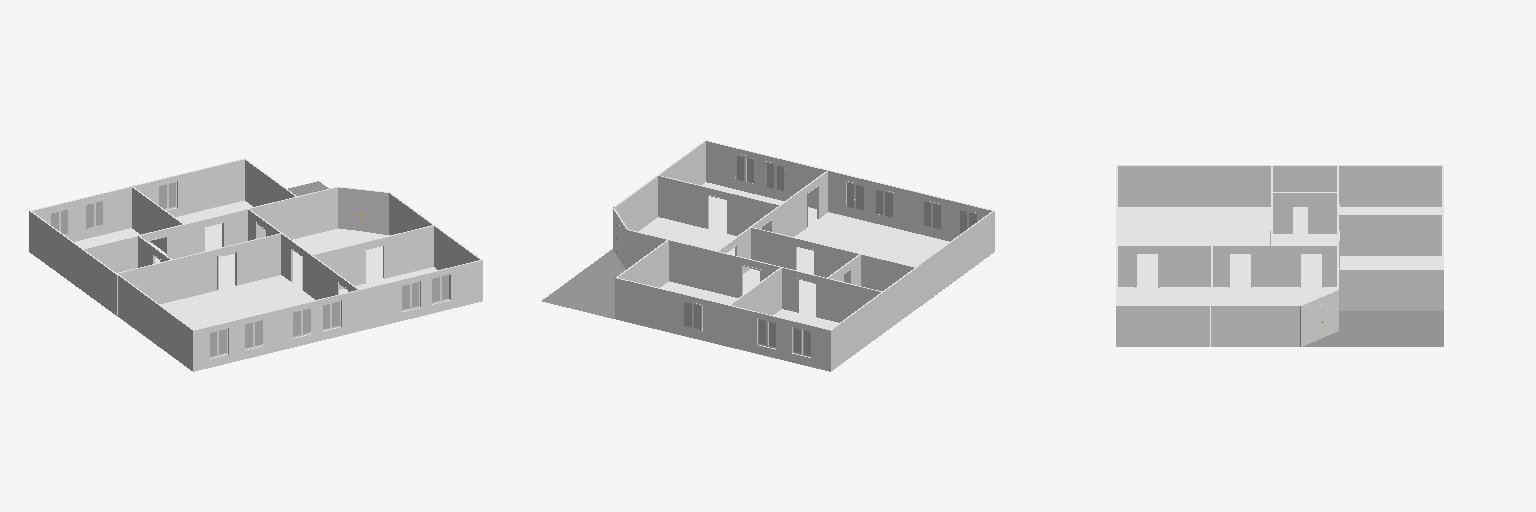
Rendered from Rorstrandsgatan.obj.
3 views of the same model, side by side, from view 1: azimuth 30°, elevation 25°; view 2: azimuth 150°, elevation 25°; view 3: azimuth 270°, elevation 25° (orthographic).
Parts seen in each view (by area): view 1: room_21_122, wall_9_52, wall_11_65, wall_7_41, wall_2_10, wall_19_113, wall_10_59, wall_5_28, wall_17_100, wall_18_107, wall_15_88, wall_4_22 (+8 smaller); view 2: room_21_122, wall_19_112, wall_11_64, wall_9_53, wall_2_11, wall_10_59, wall_7_40, wall_17_101, ground_1, wall_5_29, wall_15_89, wall_18_107 (+8 smaller); view 3: room_21_122, wall_10_58, wall_20_118, wall_18_106, wall_16_95, ground_1, wall_8_47, wall_1_4, wall_3_17, wall_6_34, wall_14_82, wall_12_71 (+1 smaller).
Part boxes in pixels (x1,y1,x2,y2): room_21_122: (75, 200, 436, 329); wall_9_52: (119, 234, 280, 303); wall_11_65: (193, 291, 359, 371); wall_7_41: (359, 260, 482, 330); wall_2_10: (313, 226, 433, 289); wall_19_113: (133, 159, 244, 216); wall_10_59: (118, 276, 192, 370); wall_5_28: (250, 188, 337, 239); wall_17_100: (32, 187, 131, 241); wall_18_107: (29, 211, 81, 289); wall_15_88: (141, 209, 247, 258); wall_4_22: (338, 187, 388, 233); room_21_122: (638, 182, 948, 329); wall_19_112: (615, 278, 727, 345); wall_11_64: (828, 171, 991, 241); wall_9_53: (751, 228, 913, 290); wall_2_11: (658, 176, 778, 235); wall_10_59: (919, 211, 994, 305); wall_7_40: (706, 141, 826, 208); wall_17_101: (728, 306, 830, 371); ground_1: (542, 249, 988, 371); wall_5_29: (627, 230, 715, 292); wall_15_89: (718, 252, 826, 319); wall_18_107: (831, 293, 882, 370); room_21_122: (1118, 207, 1441, 346); wall_10_58: (1118, 166, 1270, 206); wall_20_118: (1339, 270, 1443, 310); wall_18_106: (1339, 166, 1441, 206); wall_16_95: (1339, 215, 1441, 255); ground_1: (1303, 311, 1443, 346); wall_8_47: (1116, 306, 1209, 346); wall_1_4: (1211, 306, 1299, 346); wall_3_17: (1213, 246, 1336, 286); wall_6_34: (1118, 246, 1210, 286); wall_14_82: (1273, 193, 1336, 233); wall_12_71: (1273, 166, 1336, 206).
Size of the model in its own units: 1845 by 250 by 1811.